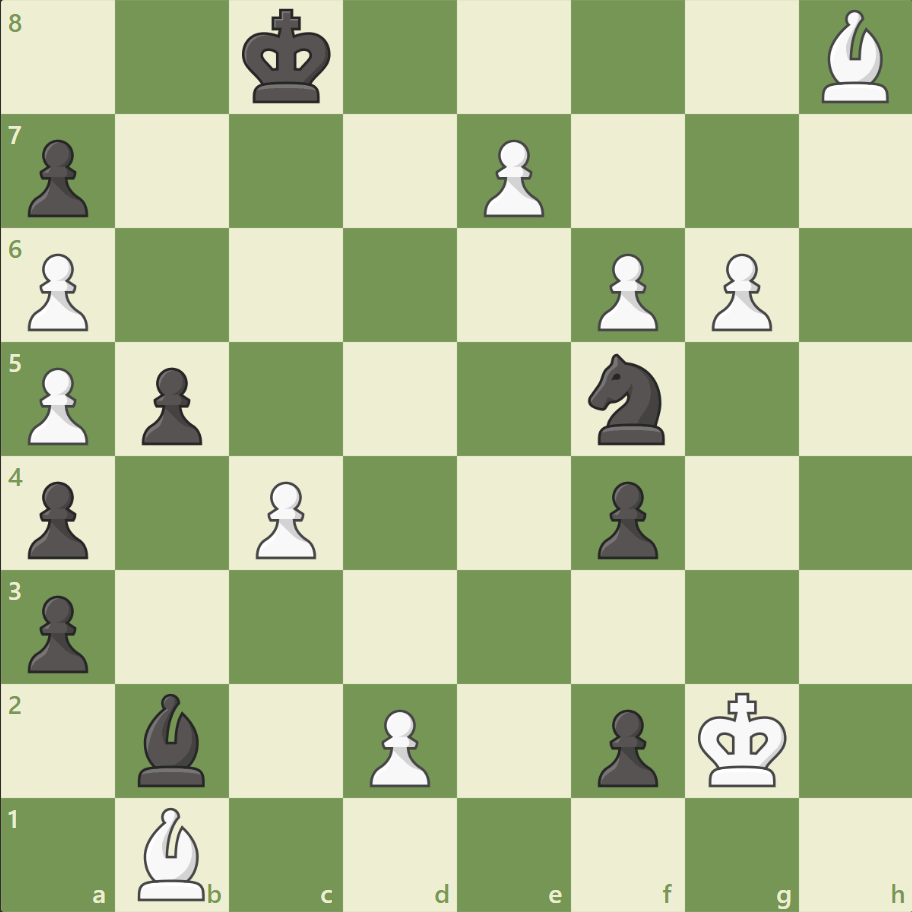B: (812, 6, 896, 109), (131, 801, 215, 904)
K: (692, 685, 792, 793)
P: (474, 132, 549, 223), (20, 246, 95, 337), (701, 246, 776, 337), (20, 359, 95, 450), (247, 473, 322, 564), (588, 246, 662, 337), (361, 700, 435, 791)
b: (131, 687, 215, 790)
k: (238, 4, 338, 112)
n: (579, 348, 676, 450)
p: (20, 132, 95, 223), (133, 359, 208, 450), (20, 473, 95, 564), (20, 586, 95, 677), (588, 473, 662, 564), (588, 700, 662, 791)
